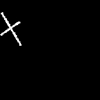single_crochet: (1, 13, 20, 45)
